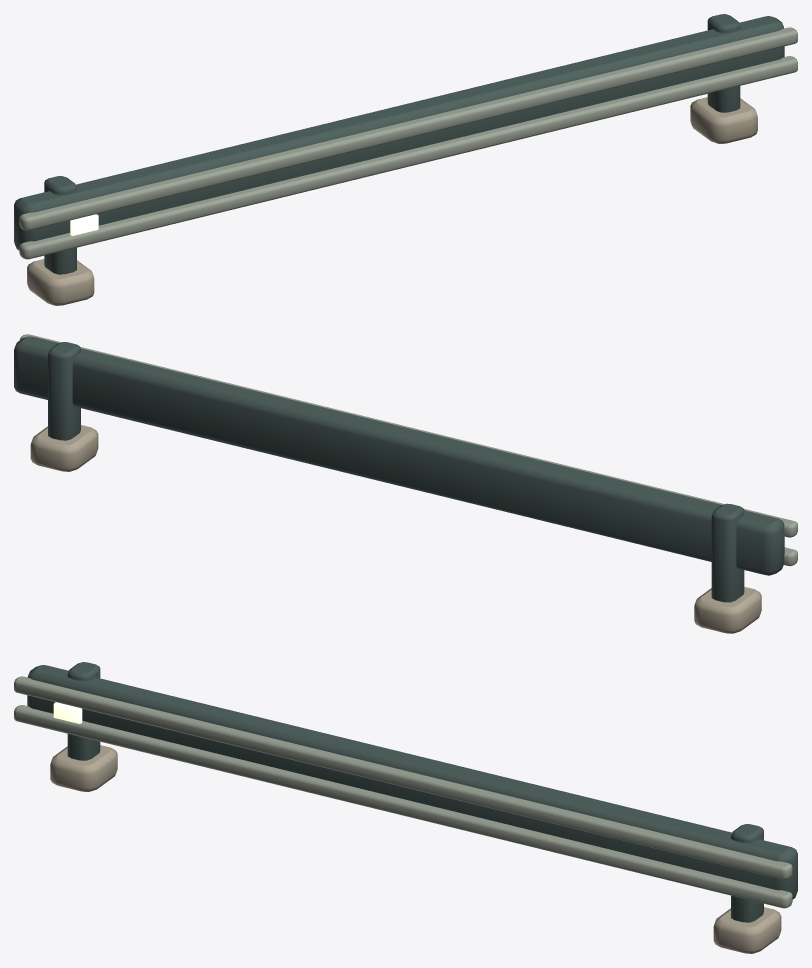
Rendered from rail.glb.
The picture shows the model from 3 angles, top to bottom: view 1: azimuth 30°, elevation 25°; view 2: azimuth 150°, elevation 25°; view 3: azimuth 330°, elevation 25°; orthographic projection.
Visible parts, largest first — view 1: Rail; view 2: Rail; view 3: Rail.
Boxes of the visible parts, x1,y1,x2,y2 form: Rail: [14, 14, 797, 305]; Rail: [14, 334, 797, 633]; Rail: [14, 662, 797, 953].
Size of the model in its own units: 3.97 by 0.56 by 0.328.
